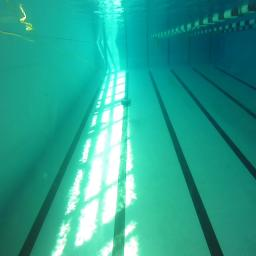Full: (121, 98, 131, 106)
